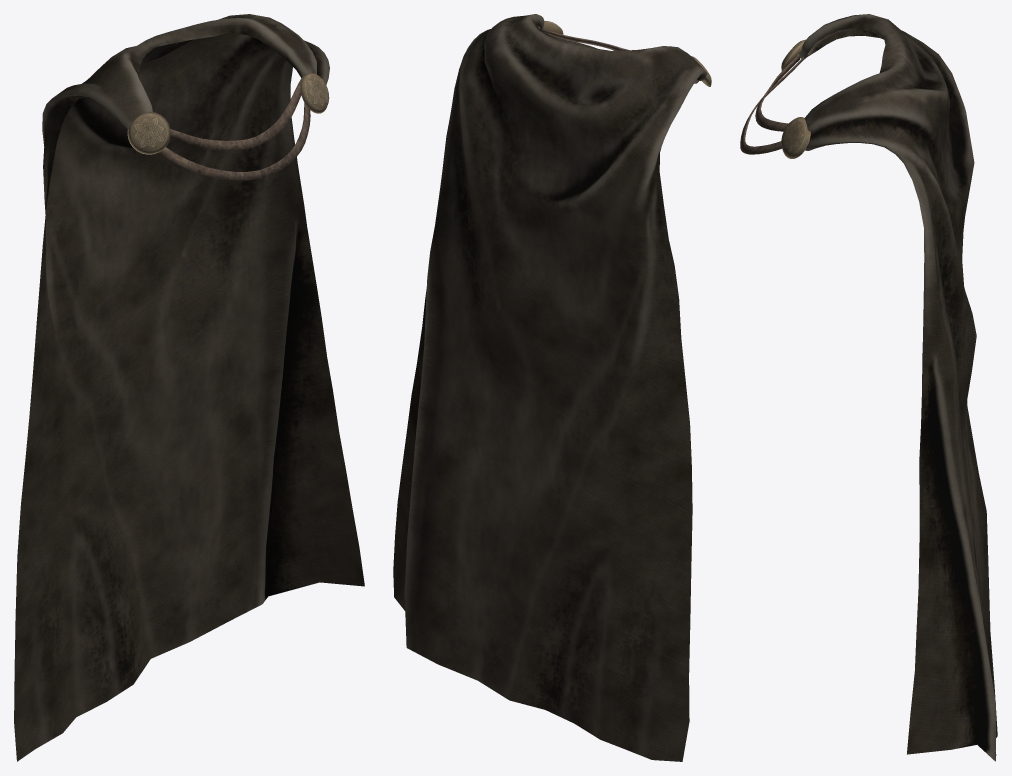
The model's file is dunland_wulf_cape_long_a.fbx.
3 views of the same model, side by side, from view 1: azimuth 30°, elevation 25°; view 2: azimuth 150°, elevation 25°; view 3: azimuth 270°, elevation 25° (orthographic). The views are drawn at different scales.
Visible parts, largest first — view 1: dunland_wulf_cape_long_a; view 2: dunland_wulf_cape_long_a; view 3: dunland_wulf_cape_long_a.
Part boxes in pixels (x1,y1,x2,y2): dunland_wulf_cape_long_a: [14, 14, 364, 761]; dunland_wulf_cape_long_a: [393, 14, 711, 761]; dunland_wulf_cape_long_a: [740, 14, 997, 761].
Size of the model in its own units: 0.6081 by 0.4027 by 1.25.
1 material, 1 textured.
